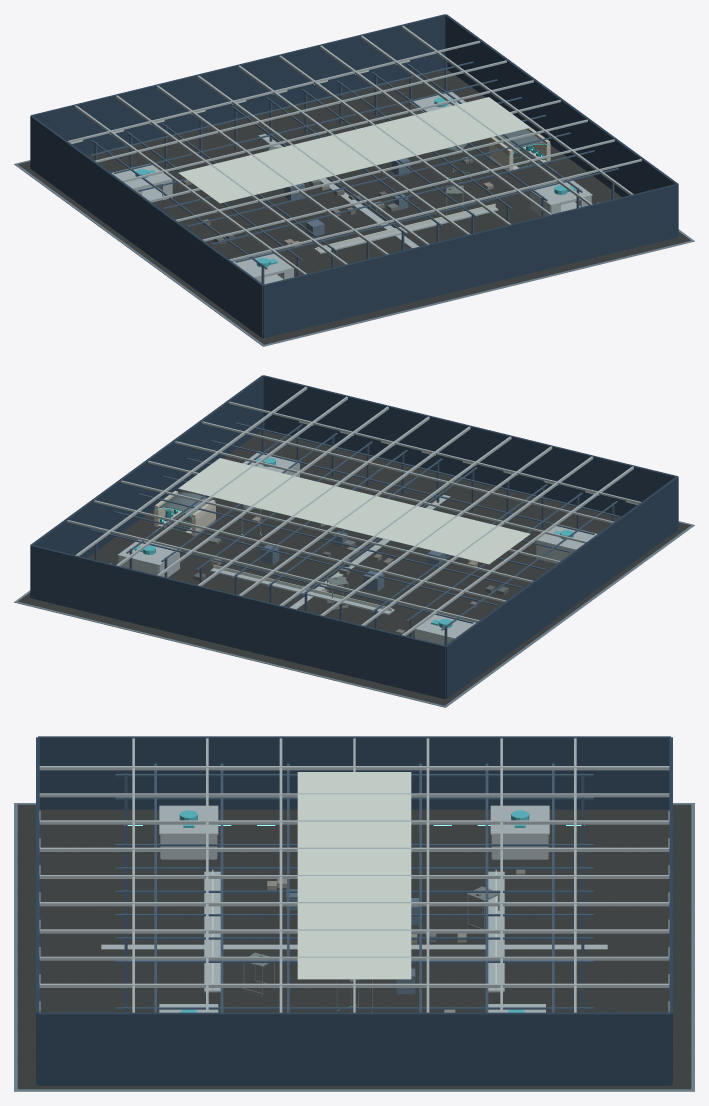
The picture shows the model from 3 angles, top to bottom: view 1: azimuth 30°, elevation 25°; view 2: azimuth 150°, elevation 25°; view 3: azimuth 270°, elevation 25°; orthographic projection. The views are drawn at different scales.
Parts seen in each view (by area): view 1: Runtime orbital_1_0_0, Runtime FPV textured terrain orbital, Runtime orbital_2_0_0, Runtime orbital_4_0_0, Runtime Material_2, Runtime orbital_0_0_0, Runtime MCP Authored orbital warm plaster, Runtime Material_9, Runtime MCP Authored orbital brushed steel; view 2: Runtime orbital_1_0_0, Runtime FPV textured terrain orbital, Runtime orbital_2_0_0, Runtime orbital_4_0_0, Runtime Material_2, Runtime orbital_0_0_0, Runtime Material_9, Runtime MCP Authored orbital warm plaster, Runtime MCP Authored orbital brushed steel; view 3: Runtime FPV textured terrain orbital, Runtime orbital_1_0_0, Runtime orbital_2_0_0, Runtime orbital_4_0_0, Runtime Material_2, Runtime orbital_0_0_0, Runtime FPV galvanized metal orbital, Runtime Material_9, Runtime orbital_3_0_0.
Part boxes in pixels (x1,y1,x2,y2): Runtime orbital_1_0_0: (30, 14, 678, 338); Runtime FPV textured terrain orbital: (18, 68, 690, 344); Runtime orbital_2_0_0: (68, 25, 641, 284); Runtime orbital_4_0_0: (70, 60, 530, 250); Runtime Material_2: (90, 60, 618, 284); Runtime orbital_0_0_0: (14, 160, 694, 346); Runtime MCP Authored orbital warm plaster: (489, 127, 550, 170); Runtime Material_9: (284, 158, 410, 236); Runtime MCP Authored orbital brushed steel: (444, 129, 548, 182); Runtime orbital_1_0_0: (30, 375, 678, 699); Runtime FPV textured terrain orbital: (18, 429, 690, 705); Runtime orbital_2_0_0: (67, 386, 640, 645); Runtime orbital_4_0_0: (178, 421, 638, 611); Runtime Material_2: (90, 421, 618, 645); Runtime orbital_0_0_0: (14, 521, 694, 707); Runtime Material_9: (261, 531, 445, 591); Runtime MCP Authored orbital warm plaster: (154, 491, 215, 535); Runtime MCP Authored orbital brushed steel: (156, 492, 261, 541); Runtime FPV textured terrain orbital: (17, 804, 691, 1089); Runtime orbital_1_0_0: (36, 736, 672, 1085); Runtime orbital_2_0_0: (39, 738, 669, 1012); Runtime orbital_4_0_0: (39, 772, 669, 1012); Runtime Material_2: (115, 763, 593, 1012); Runtime orbital_0_0_0: (14, 803, 694, 1091); Runtime FPV galvanized metal orbital: (243, 886, 499, 997); Runtime Material_9: (286, 889, 418, 994); Runtime orbital_3_0_0: (179, 810, 529, 1012).
Bounding box in the file's own units: 370 × 43.61 × 370.
Materials: 24 (6 with a texture image).
